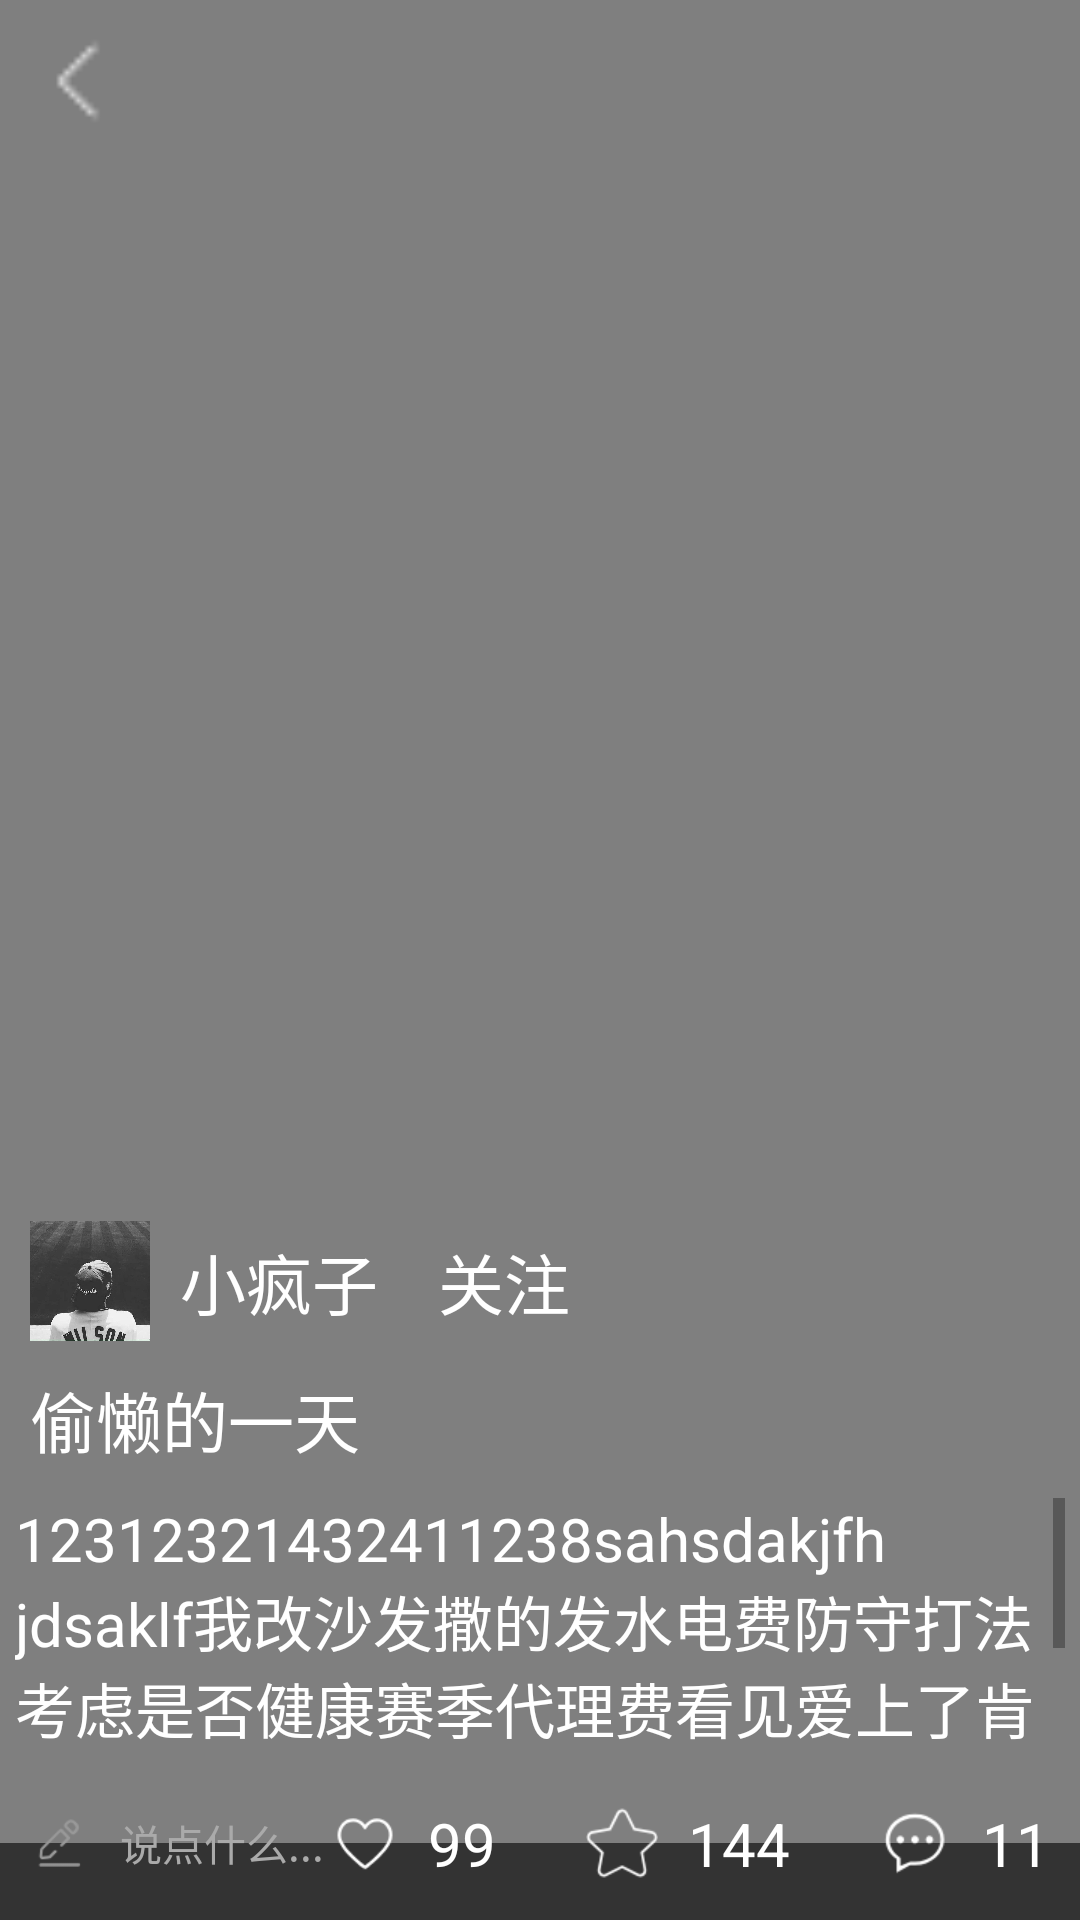

Named icons in this screenshot (1080px x 1920px) and their centers, [x,y]:
collect: [622,1843]
head: [90,1281]
love: [365,1843]
message: [916,1843]
return: [77,81]
write: [60,1843]
